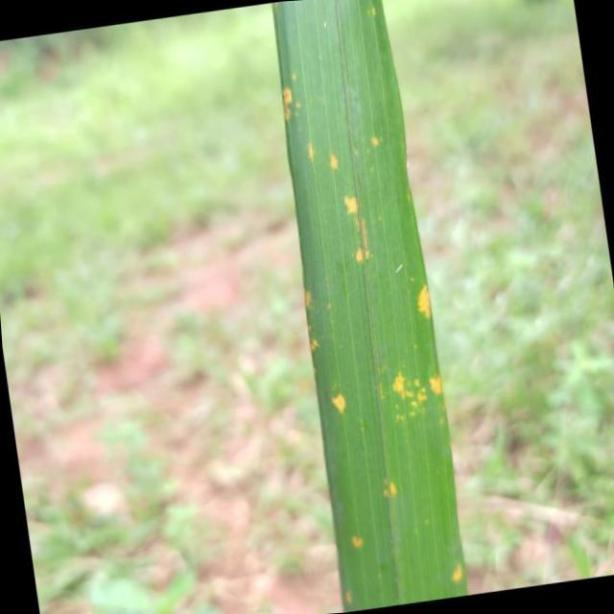Kalium: (272, 3, 473, 606)
